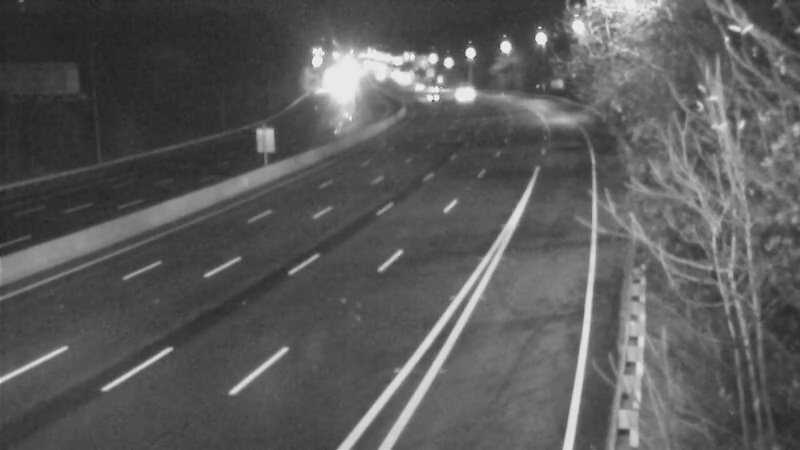vehicle: (441, 70, 491, 120), (407, 75, 457, 125)
